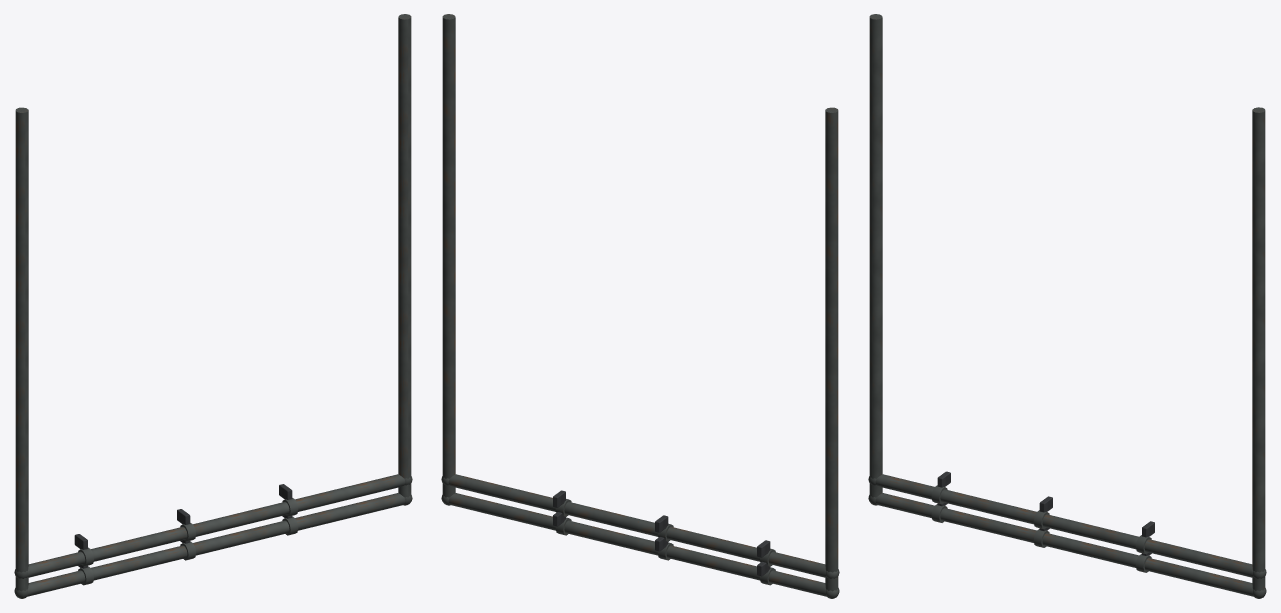
Rendered from pipeRun_v2.glb.
The picture shows the model from 3 angles, left to right: view 1: azimuth 30°, elevation 25°; view 2: azimuth 150°, elevation 25°; view 3: azimuth 330°, elevation 25°; orthographic projection.
Visible parts, largest first — view 1: pipeRun_v2; view 2: pipeRun_v2; view 3: pipeRun_v2.
Boxes of the visible parts, <box> form: pipeRun_v2: <box>14,14,412,598</box>; pipeRun_v2: <box>441,14,839,598</box>; pipeRun_v2: <box>868,14,1266,598</box>.
Size of the model in its own units: 3.1 by 3.66 by 0.1809.
Materials: 2 (2 with a texture image).
